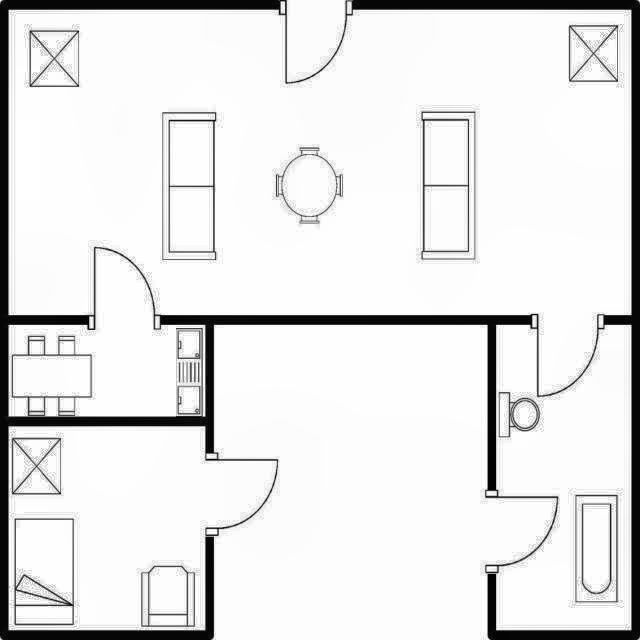room: (9, 13, 631, 314), (497, 324, 630, 630), (10, 426, 206, 629), (8, 325, 206, 416)
